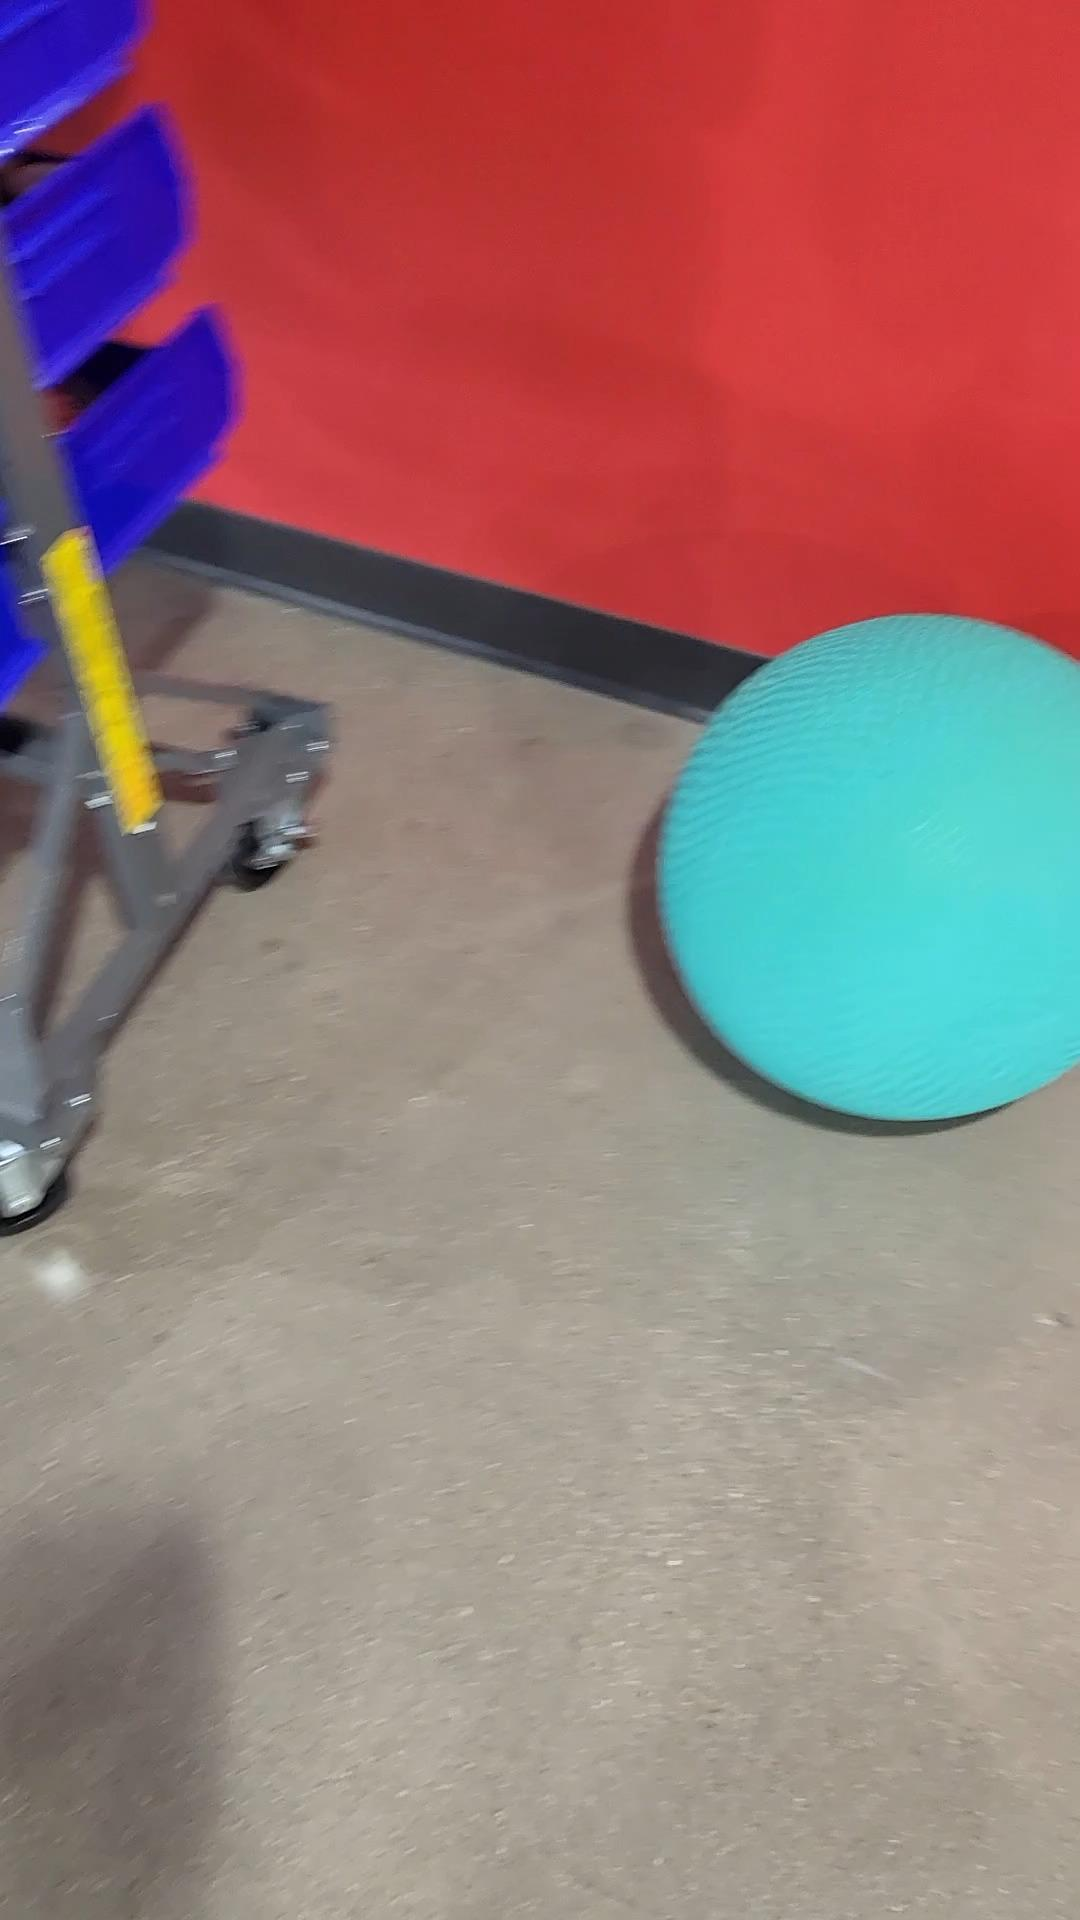algae: (655, 616, 1080, 1125)
